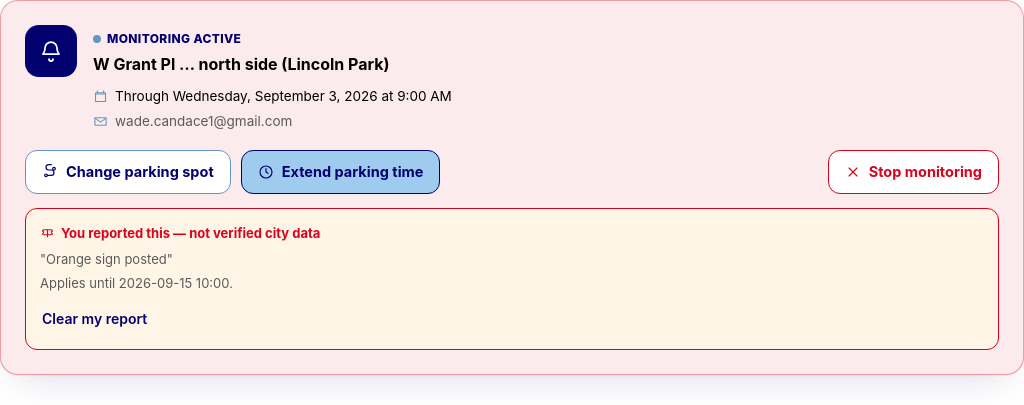
Test: MonitorBanner › clearing an active override goes back to normal
The width and height of the screenshot is (1024, 405).
Click the button "Clear my report" at (95, 318), box [40,302,149,335]
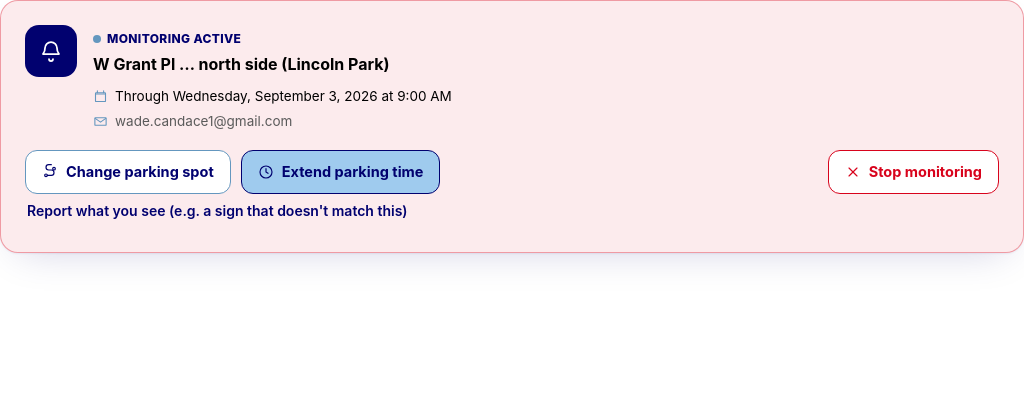
Result: the button "Report what you see (e.g. a sign that doesn't match this)" is shown at [25,194,410,228]
